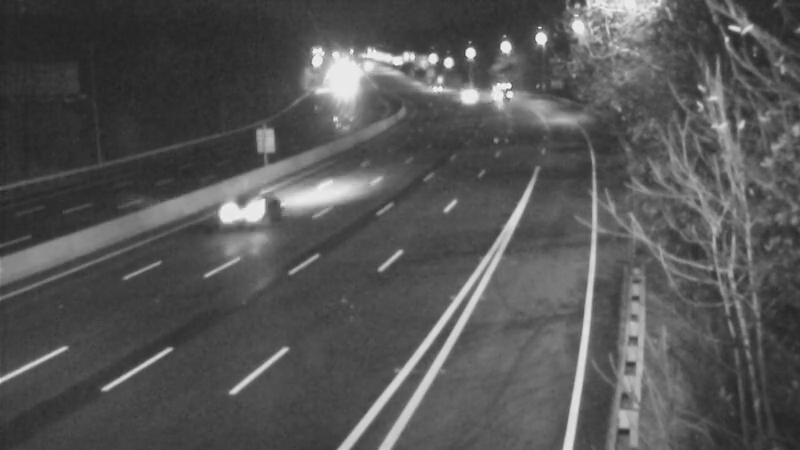vehicle: (206, 164, 286, 244), (402, 62, 452, 112), (473, 65, 523, 115), (443, 70, 493, 120)
